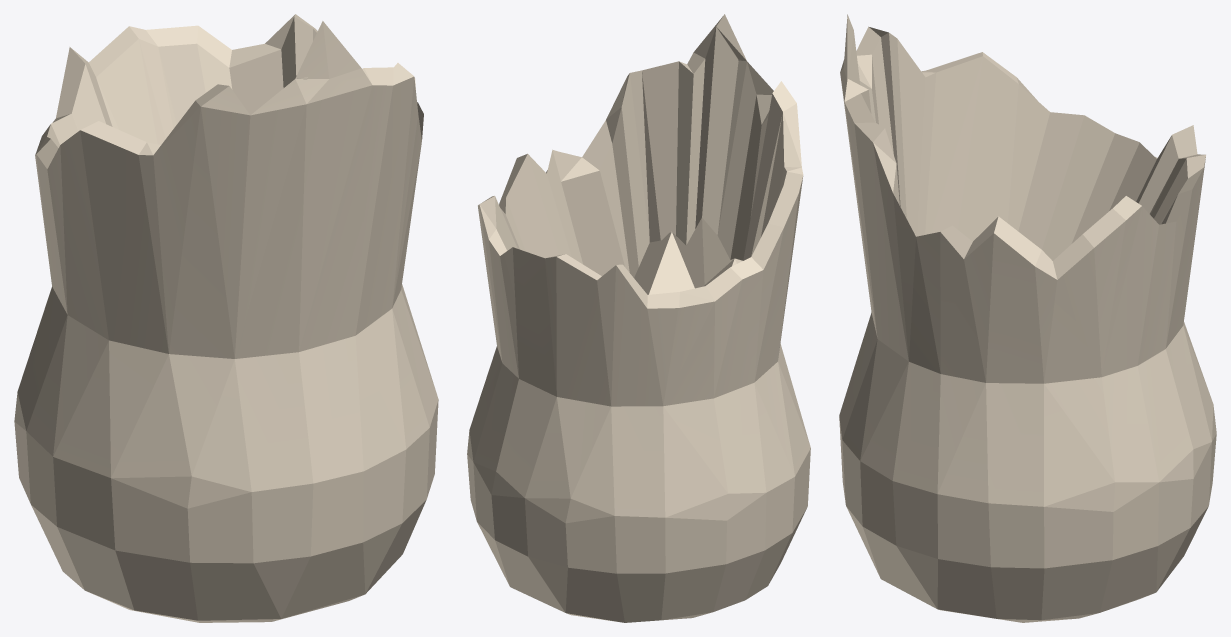
File: flasa slomljena2.fbx
3 renders of one model, left to right at view 1: azimuth 30°, elevation 25°; view 2: azimuth 150°, elevation 25°; view 3: azimuth 270°, elevation 25°, orthographic. The views are drawn at different scales.
Visible parts, largest first — view 1: localola zguzvan1.001; view 2: localola zguzvan1.001; view 3: localola zguzvan1.001.
Boxes of the visible parts, x1=… form: localola zguzvan1.001: x1=14, y1=14, x2=438, y2=622; localola zguzvan1.001: x1=467, y1=14, x2=810, y2=622; localola zguzvan1.001: x1=839, y1=14, x2=1216, y2=622.
Size of the model in its own units: 29.69 by 47.56 by 29.68.
